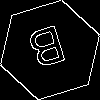B: (25, 25, 71, 78)
